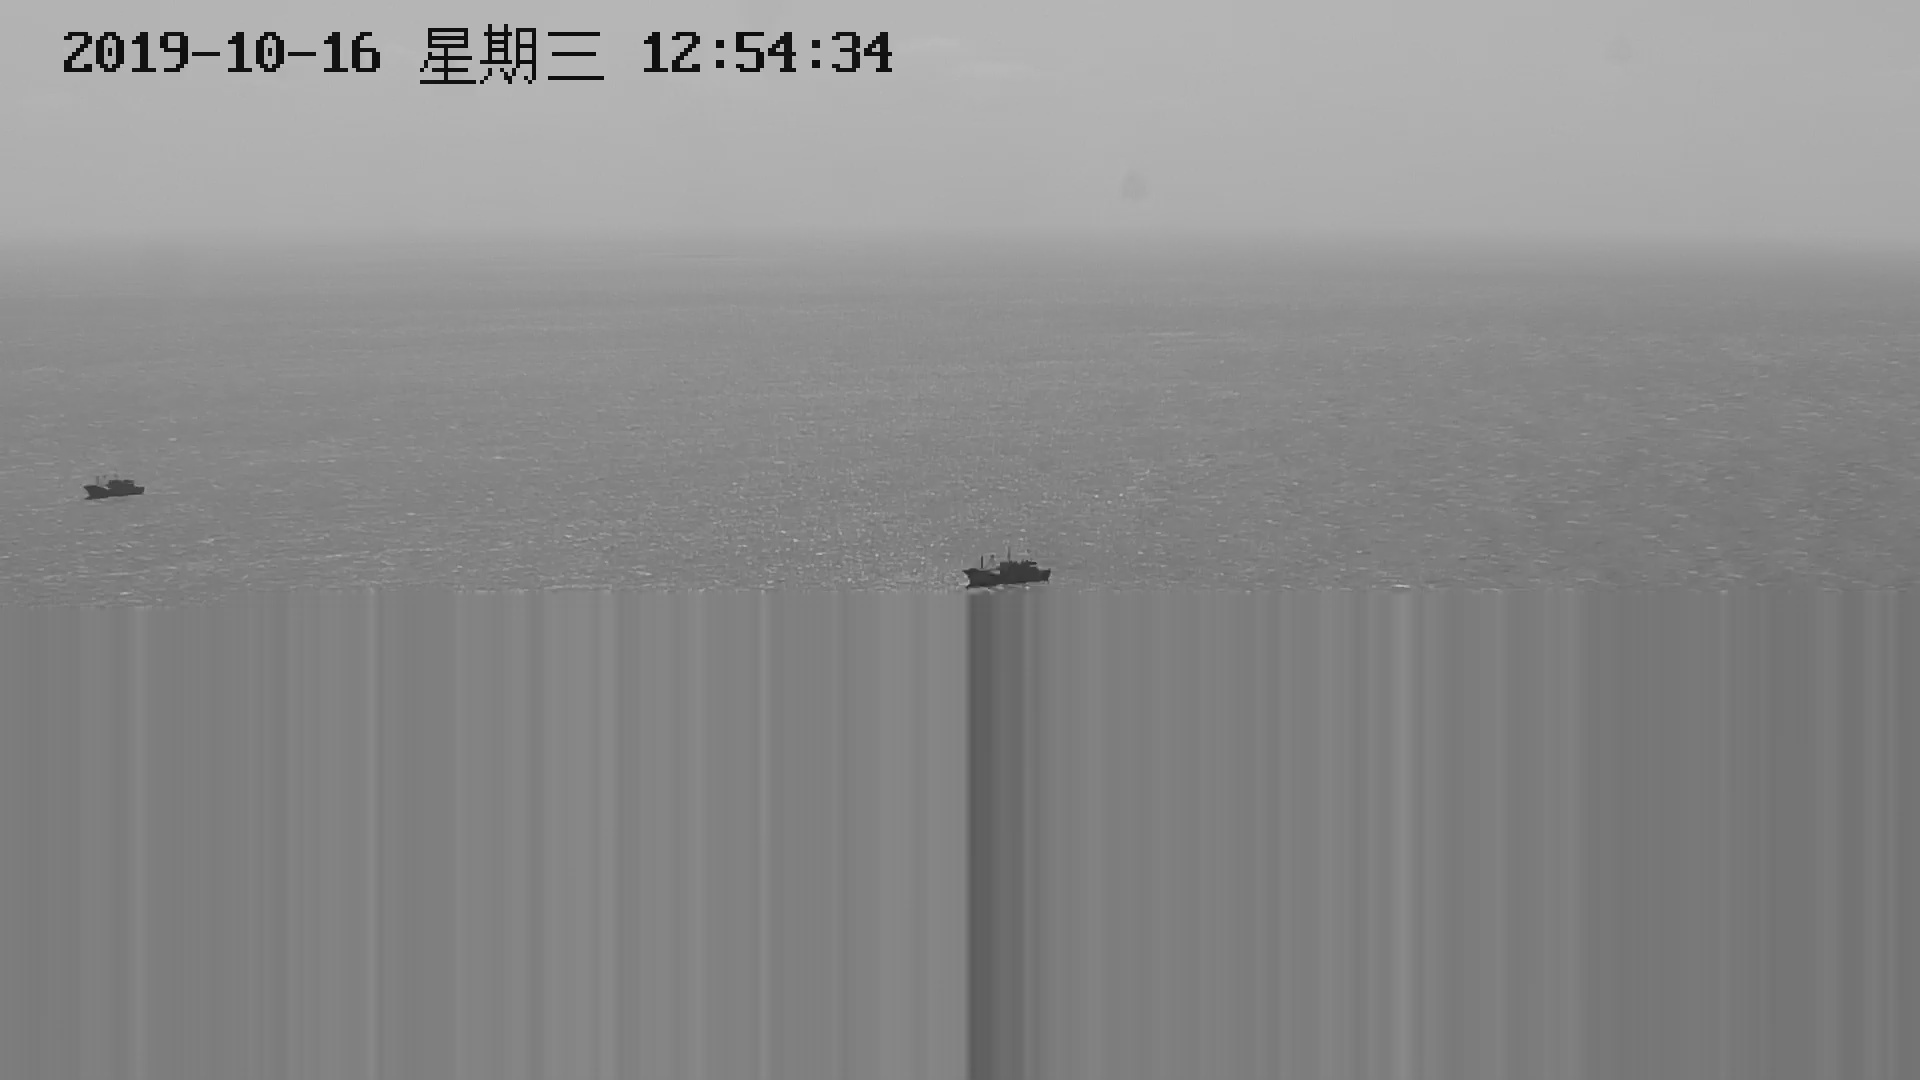ship: (960, 555, 1054, 589), (80, 471, 150, 504)
